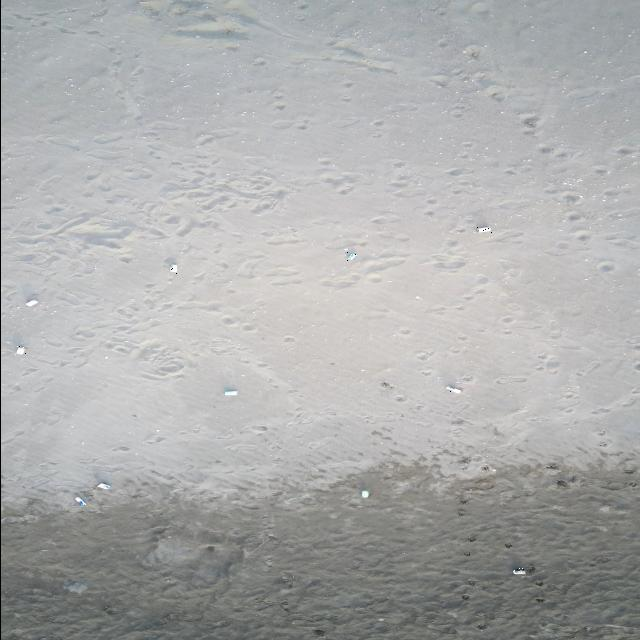Garbage: (64, 580, 87, 592), (344, 247, 355, 260), (446, 384, 460, 392), (74, 495, 84, 506), (16, 344, 26, 355), (223, 387, 236, 395), (24, 298, 37, 306), (476, 226, 491, 232), (96, 482, 111, 488), (512, 567, 526, 573), (360, 488, 368, 497), (169, 263, 176, 272)
